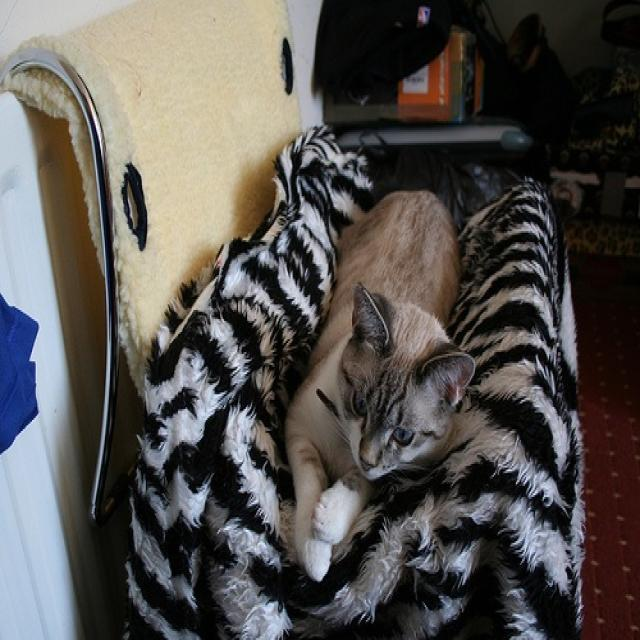cat: (284, 183, 471, 580)
chair: (0, 2, 586, 638)
